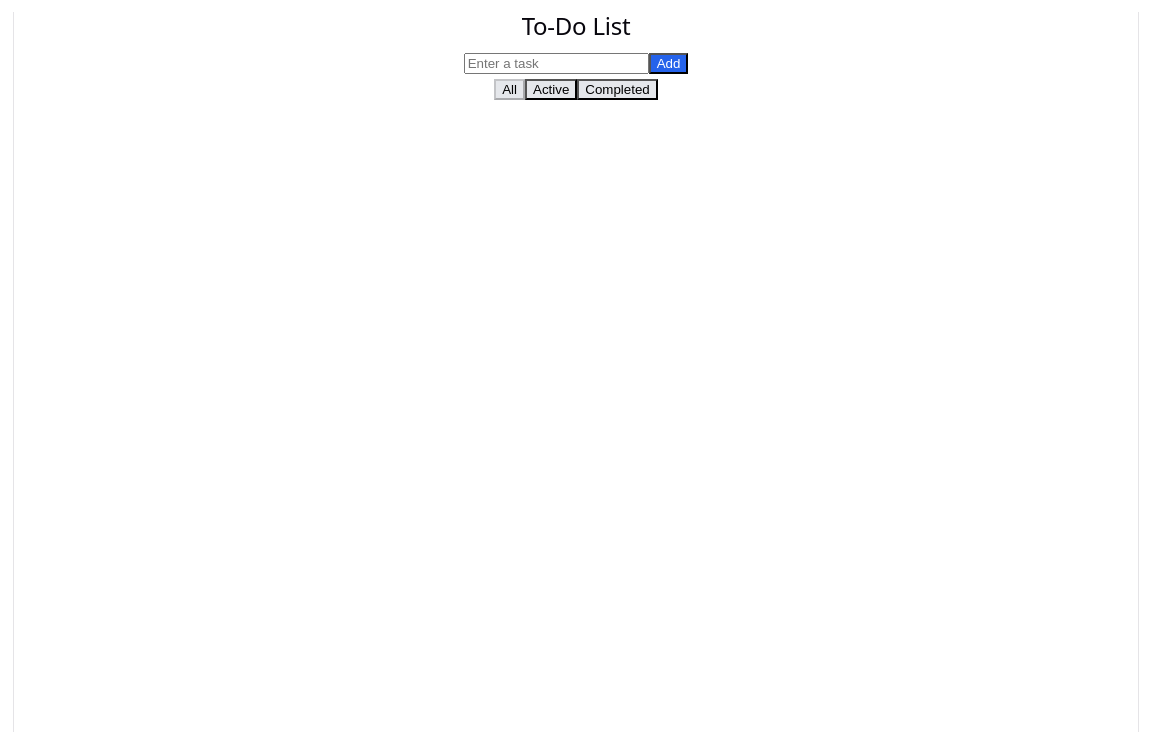
Test case: adds a new todo
Type "Study React" into the field with placeholder "Enter a task" at point(556, 64), box [464, 53, 649, 74]
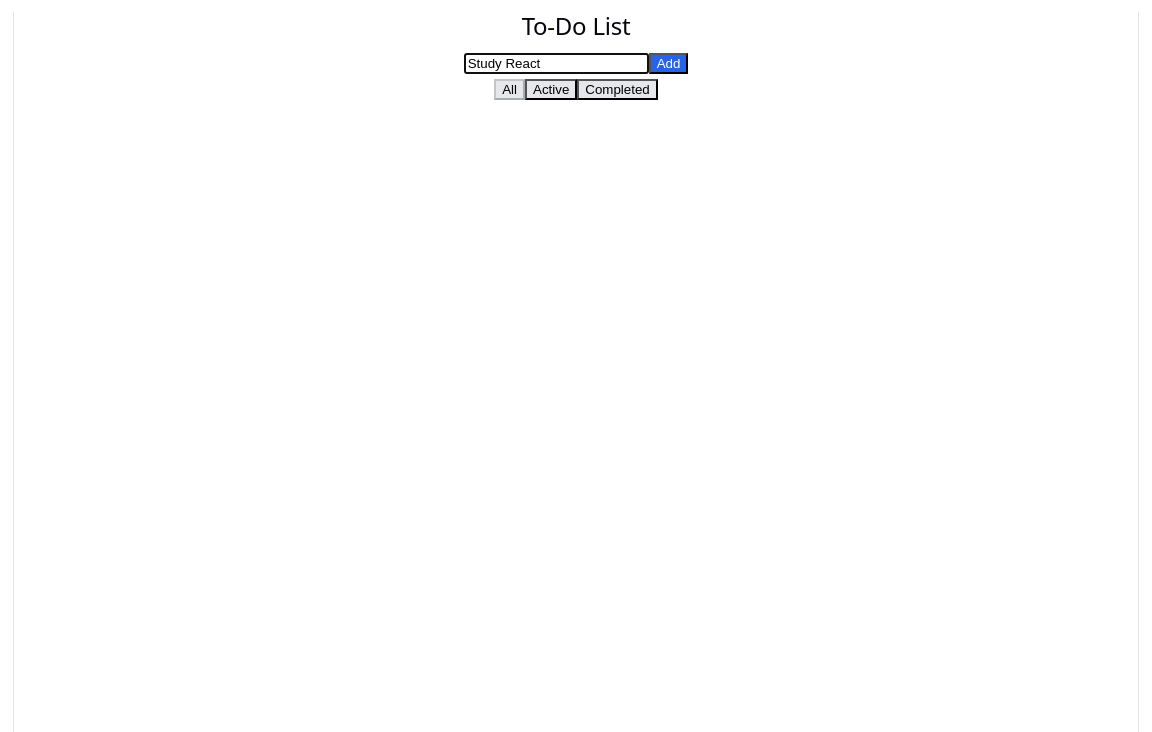
Click the button "Add" at point(668, 64), box [649, 53, 688, 74]
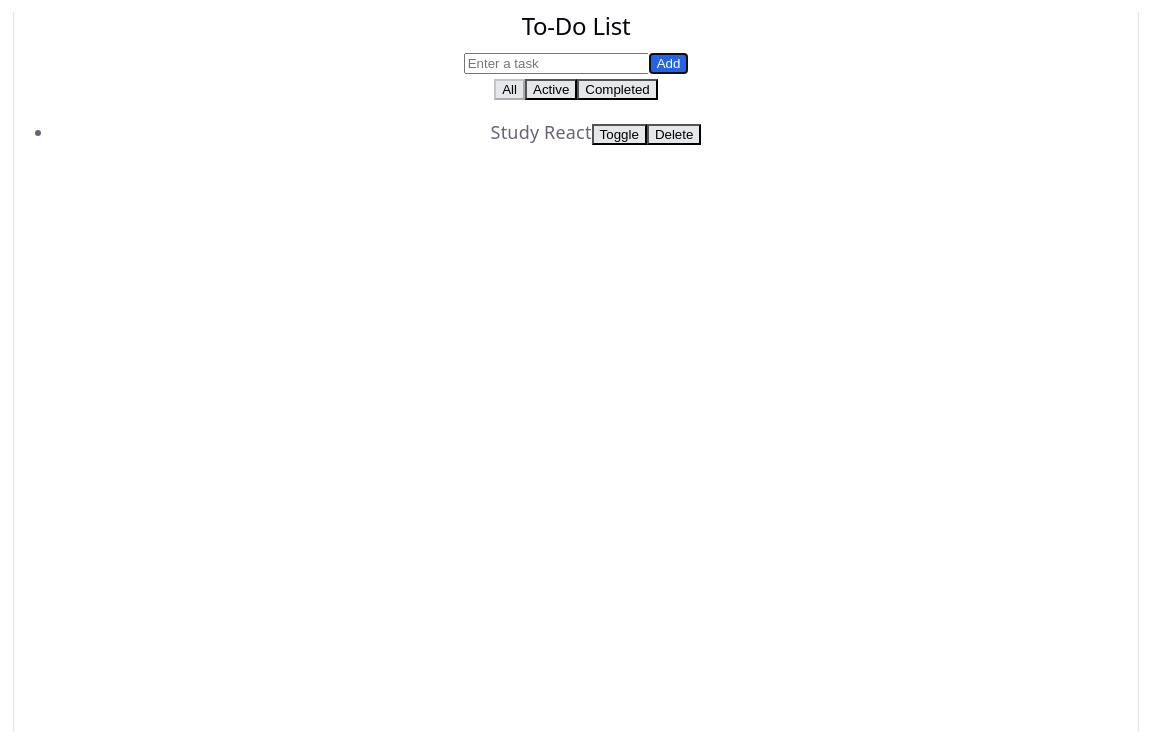
Check: the text "Study React" is shown, box [491, 120, 592, 144]
